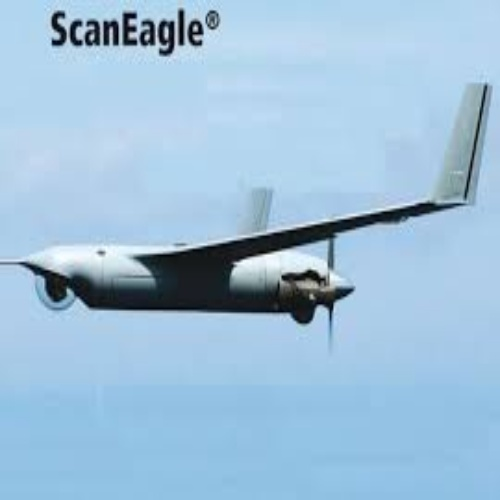uav: (7, 81, 497, 326)
